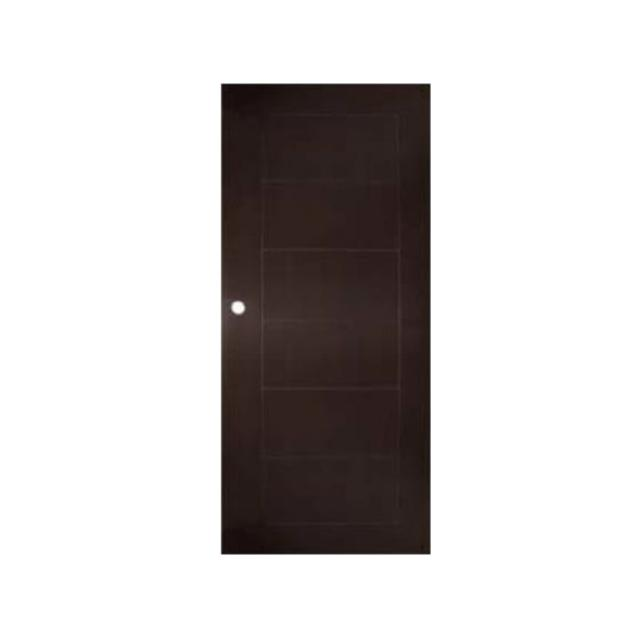door: (220, 83, 431, 554)
